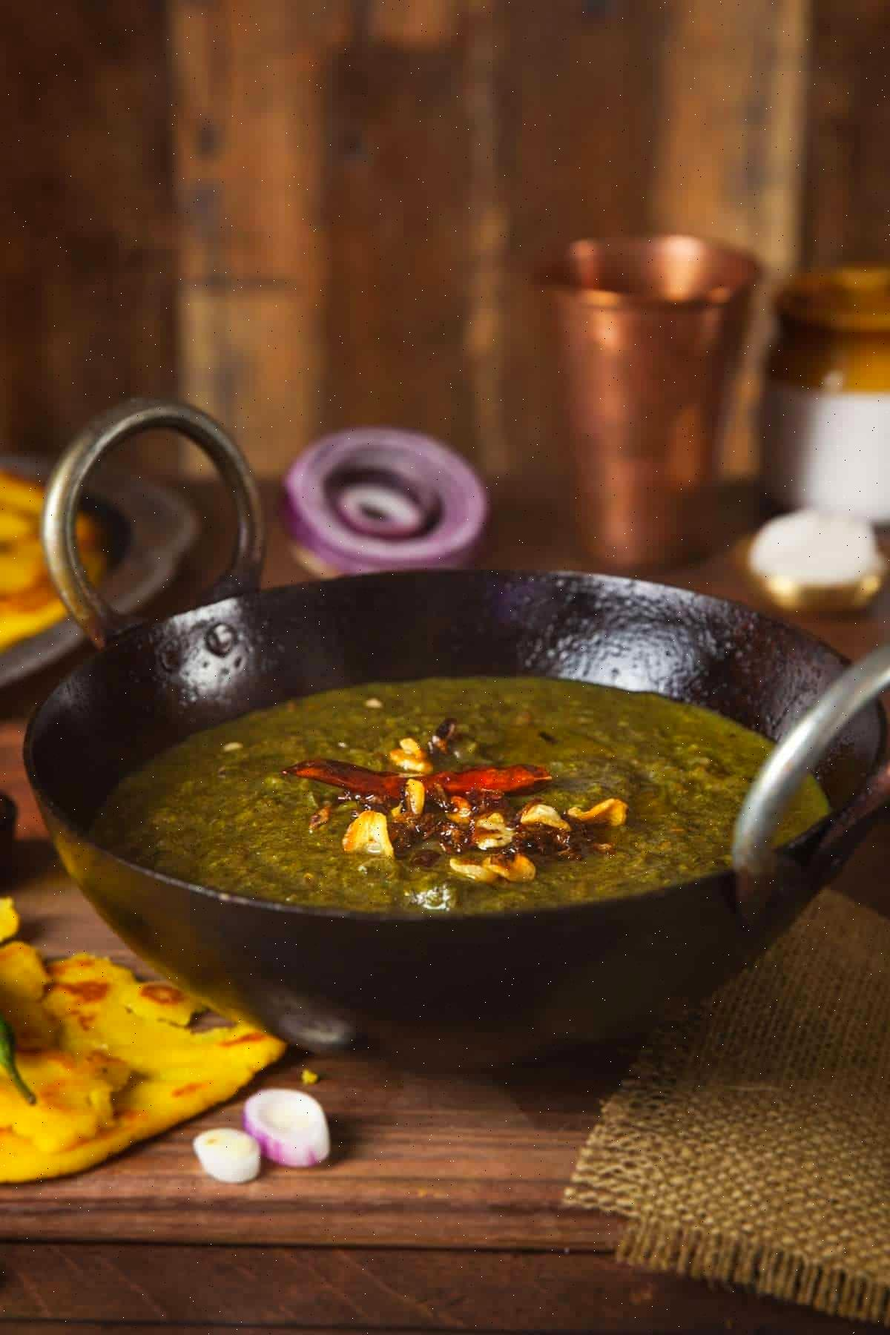saag: (101, 666, 759, 907)
